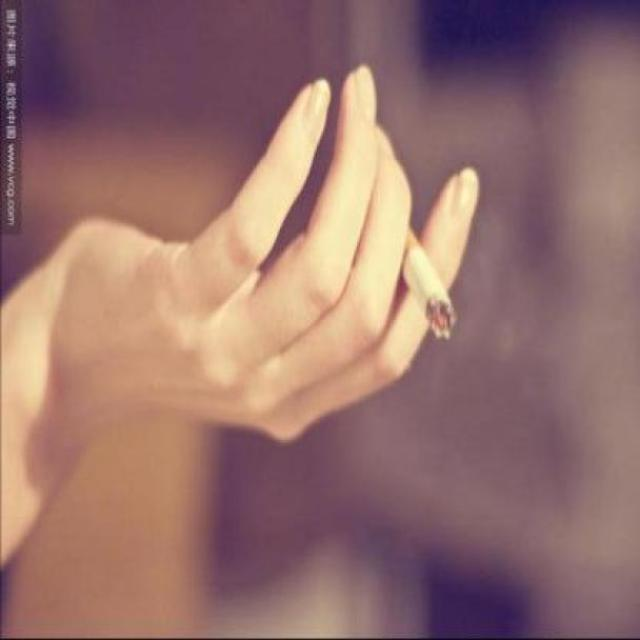rokok: (390, 221, 460, 345)
